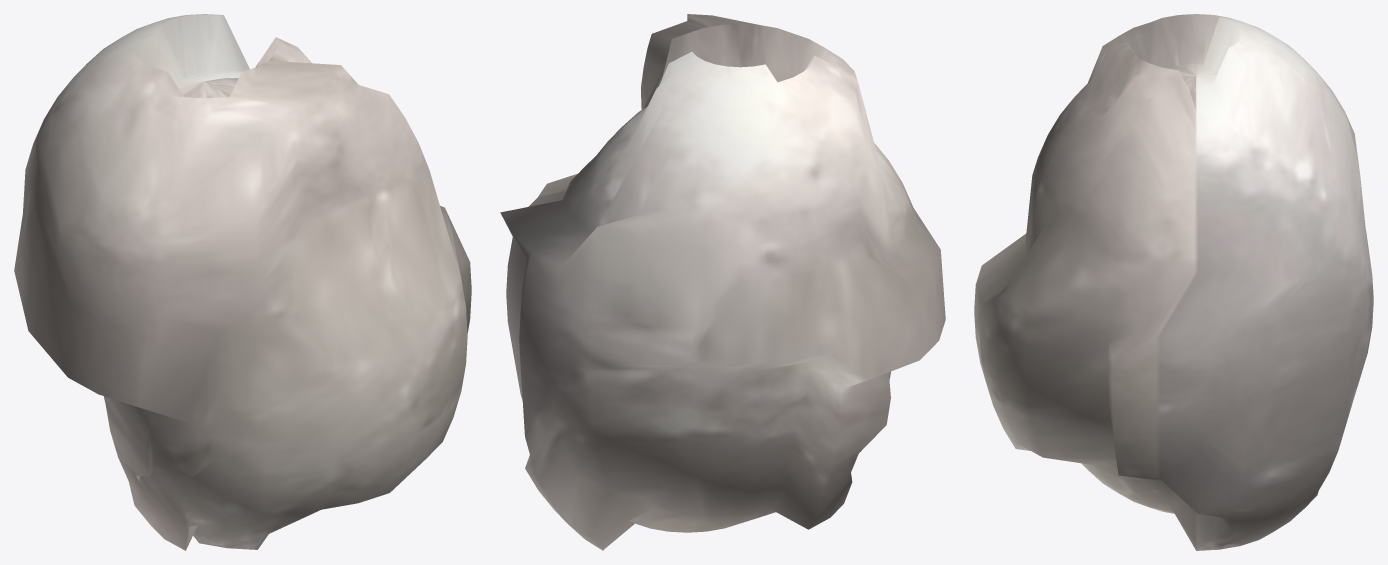
File: asteroid_mediuml_mdl.fbx
The picture shows the model from 3 angles, left to right: view 1: azimuth 30°, elevation 25°; view 2: azimuth 150°, elevation 25°; view 3: azimuth 270°, elevation 25°; orthographic projection. The views are drawn at different scales.
Parts seen in each view (by area): view 1: Sphere; view 2: Sphere; view 3: Sphere.
Boxes of the visible parts, <box> form: Sphere: <box>14,14,471,550</box>; Sphere: <box>500,14,945,550</box>; Sphere: <box>974,14,1373,550</box>.
Bounding box in the file's own units: 1.15 × 1.42 × 1.13.
1 material, 1 textured.
